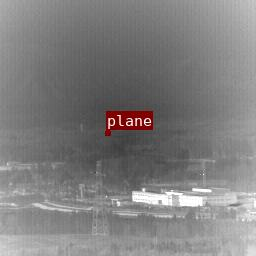plane: (106, 130, 109, 134)
